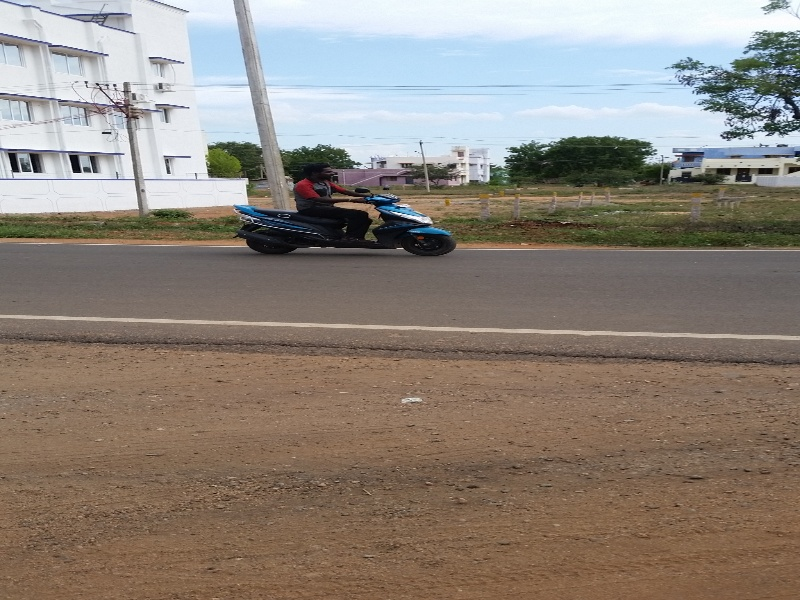biker: (219, 116, 470, 282)
nohelmet: (298, 156, 345, 189)
